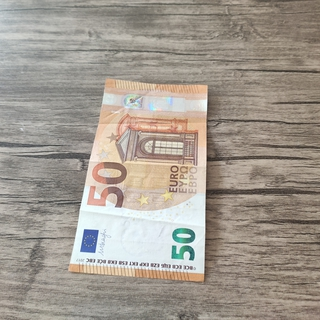50EUROFront: (66, 76, 209, 283)
